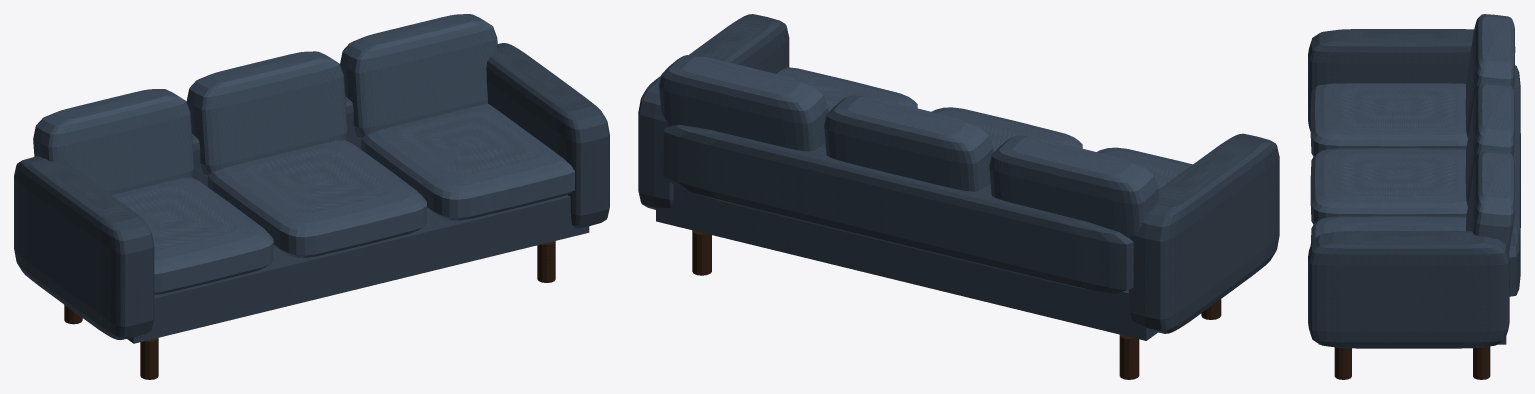
Rendered from sofa-3_lod2.glb.
3 views of the same model, side by side, from view 1: azimuth 30°, elevation 25°; view 2: azimuth 150°, elevation 25°; view 3: azimuth 270°, elevation 25° (orthographic). The views are drawn at different scales.
Visible parts, largest first — view 1: frame_base, arm_left, seat_2, seat_3, back_2, back_3, back_1, seat_1, arm_right, back_rail, leg_3, leg_4; view 2: back_rail, arm_left, frame_base, back_3, back_2, back_1, arm_right, seat_2, seat_3, seat_1, leg_1, leg_2; view 3: arm_right, seat_2, seat_1, arm_left, back_3, back_2, back_1, seat_3, back_rail, leg_2, leg_4.
Boxes of the visible parts, x1,y1,x2,y2 form: frame_base: (127, 195, 589, 343); arm_left: (14, 156, 154, 339); seat_2: (207, 140, 426, 257); seat_3: (361, 103, 574, 220); back_2: (186, 51, 347, 176); back_3: (340, 14, 498, 138); back_1: (33, 89, 194, 194); seat_1: (112, 177, 273, 294); arm_right: (486, 43, 609, 228); back_rail: (192, 96, 361, 186); leg_3: (140, 338, 158, 379); leg_4: (537, 241, 555, 282); back_rail: (663, 124, 1133, 293); arm_left: (1128, 133, 1279, 333); frame_base: (656, 185, 1157, 340); back_3: (659, 55, 828, 151); back_2: (824, 95, 993, 191); back_1: (989, 135, 1159, 238); arm_right: (638, 14, 789, 209); seat_2: (931, 107, 1082, 152); seat_3: (777, 67, 917, 111); seat_1: (1097, 147, 1192, 189); leg_1: (1119, 334, 1139, 379); leg_2: (692, 230, 711, 275); arm_right: (1308, 231, 1509, 348); seat_2: (1310, 148, 1467, 224); seat_1: (1310, 83, 1467, 156); arm_left: (1308, 29, 1473, 131); back_3: (1466, 150, 1515, 251); back_2: (1465, 82, 1515, 205); back_1: (1465, 14, 1515, 137); seat_3: (1310, 216, 1466, 244); back_rail: (1509, 65, 1520, 296); leg_2: (1473, 346, 1490, 379); leg_4: (1334, 347, 1351, 379).
Size of the model in its own units: 2.2 by 0.85 by 0.9.
3 materials, 3 textured.
